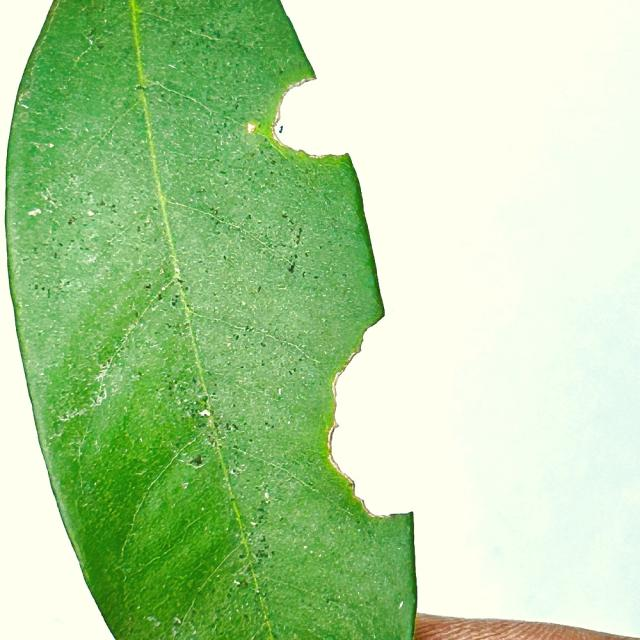Deficiency Leaf: (329, 314, 440, 520), (273, 79, 360, 161)
Lychee: (3, 0, 419, 639)
